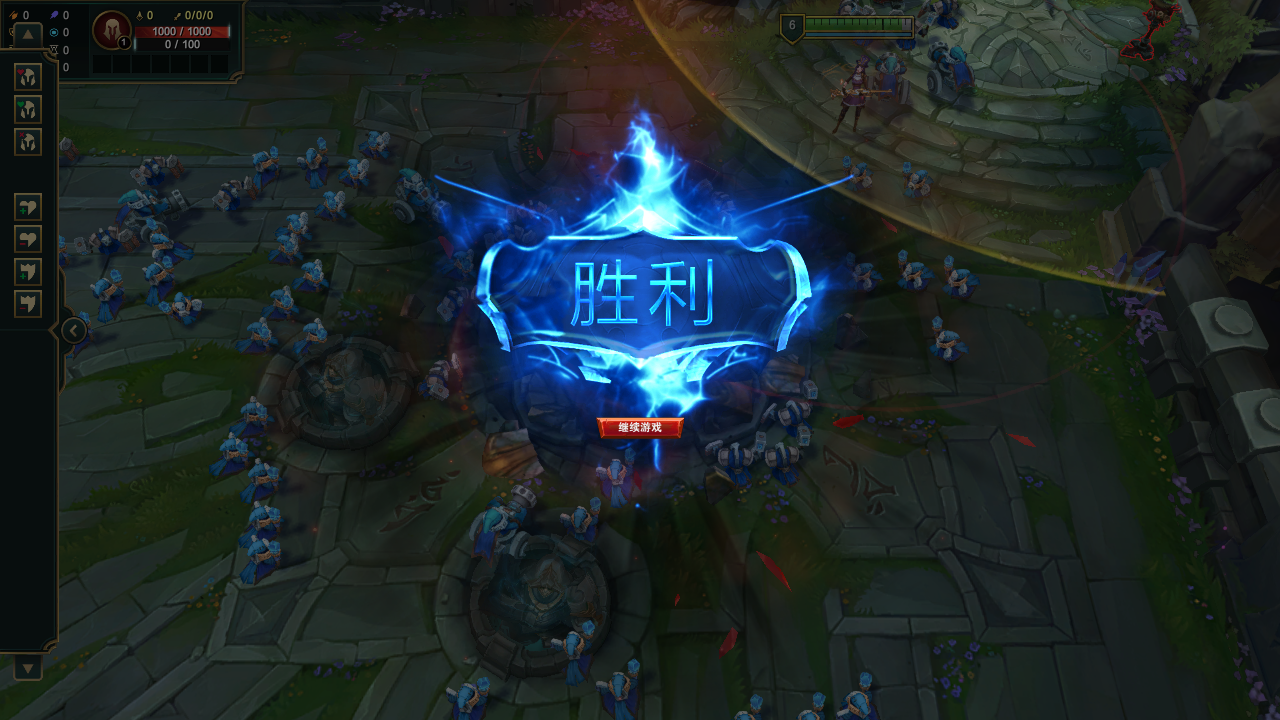Vic: (613, 420, 667, 436)
